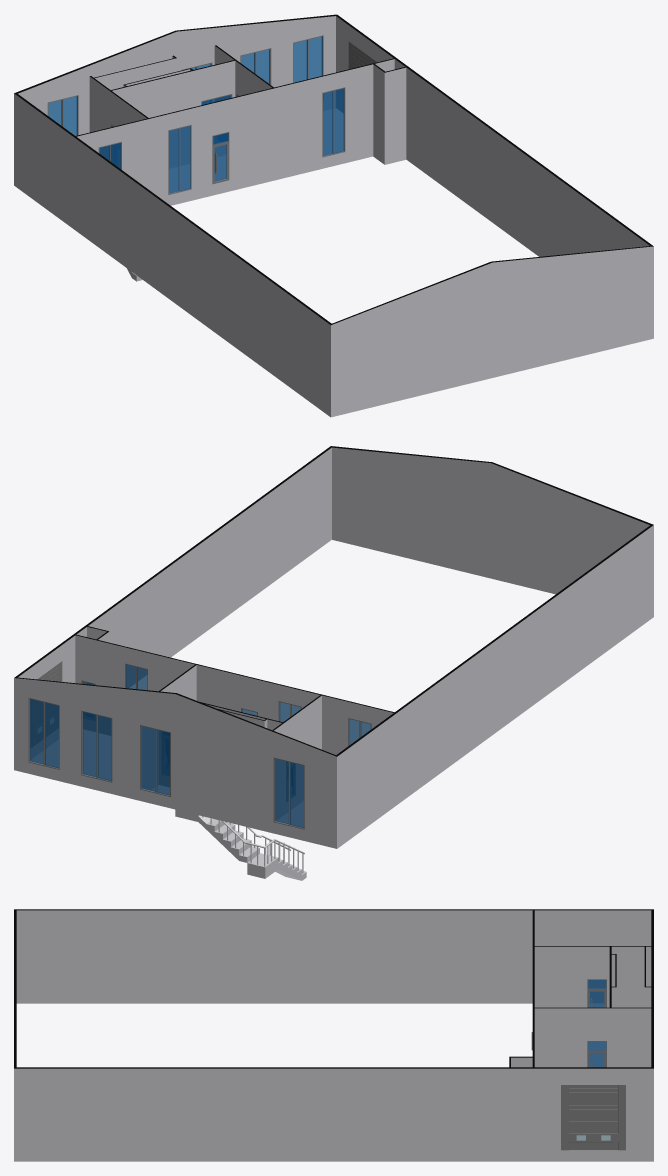
3 views of the same model, one above another, from view 1: azimuth 30°, elevation 25°; view 2: azimuth 150°, elevation 25°; view 3: azimuth 270°, elevation 25° (orthographic).
Visible parts, largest first — view 1: 2층_벽, 2층_창문, 2층_바닥, 2층_유리문; view 2: 2층_벽, 2층_창문, 외부 계단002, 2층_바닥, 2층_OHD, 2층_유리문; view 3: 2층_벽, 2층_OHD, 2층_유리문, 2층_바닥.
Part boxes in pixels (x1=…): 2층_벽: x1=14, y1=14, x2=653, y2=417; 2층_창문: x1=47, y1=35, x2=345, y2=194; 2층_바닥: x1=169, y1=108, x2=343, y2=192; 2층_유리문: x1=111, y1=94, x2=238, y2=184; 2층_벽: x1=14, y1=446, x2=653, y2=848; 2층_창문: x1=28, y1=663, x2=371, y2=829; 외부 계단002: x1=175, y1=809, x2=306, y2=880; 2층_바닥: x1=31, y1=730, x2=303, y2=826; 2층_OHD: x1=31, y1=661, x2=62, y2=747; 2층_유리문: x1=81, y1=680, x2=295, y2=801; 2층_벽: x1=14, y1=909, x2=653, y2=1161; 2층_OHD: x1=561, y1=1085, x2=625, y2=1150; 2층_유리문: x1=531, y1=979, x2=606, y2=1067; 2층_바닥: x1=588, y1=1003, x2=605, y2=1066.
Bounding box in the file's own units: 20.9 × 12.14 × 35.5.
